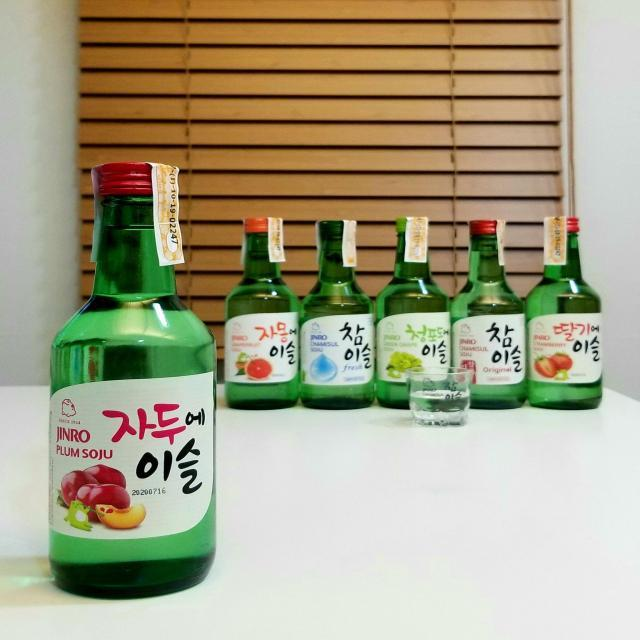soju-bottle: (49, 160, 216, 598), (374, 214, 452, 410), (526, 218, 604, 414), (452, 220, 530, 412), (300, 218, 376, 412), (227, 216, 300, 411)
